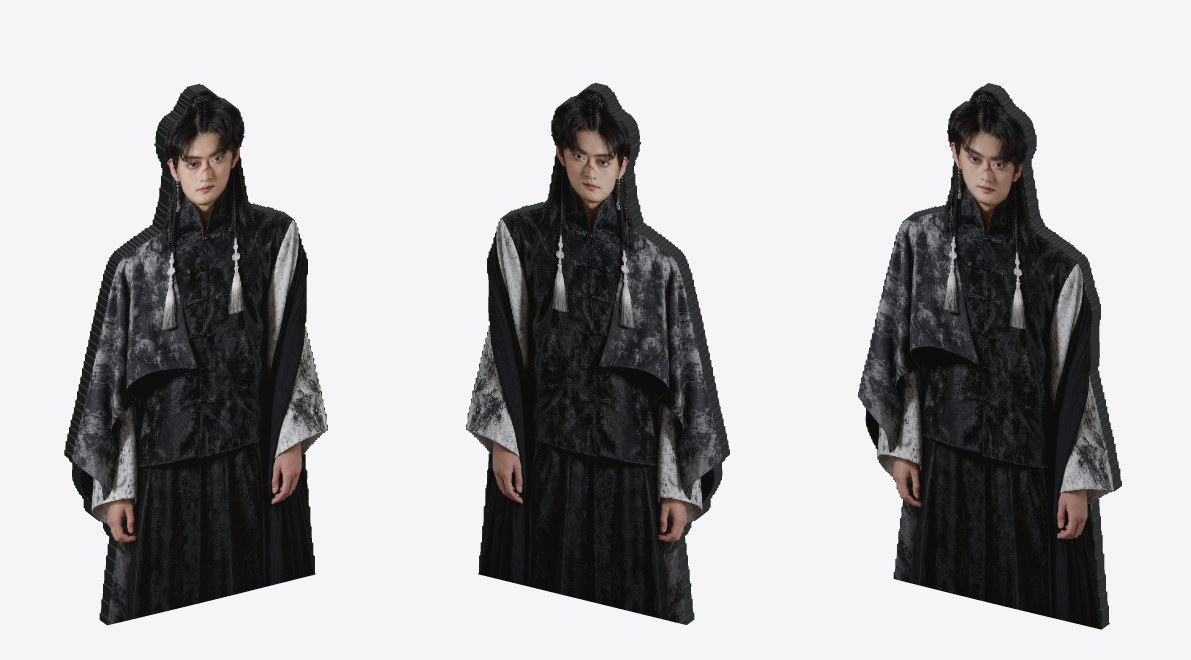
The model's file is cheng-upper-body-faithful-relief-v3.glb.
3 views of the same model, side by side, from view 1: azimuth 30°, elevation 25°; view 2: azimuth 150°, elevation 25°; view 3: azimuth 330°, elevation 25° (orthographic).
Parts seen in each view (by area): view 1: ChengFaithfulUpperBody; view 2: ChengFaithfulUpperBody; view 3: ChengFaithfulUpperBody.
Boxes of the visible parts, <box> form: ChengFaithfulUpperBody: <box>64,84,327,625</box>; ChengFaithfulUpperBody: <box>466,82,729,624</box>; ChengFaithfulUpperBody: <box>858,83,1121,629</box>.
Size of the model in its own units: 1.68 by 2.4 by 0.085.
Materials: 2 (1 with a texture image).
